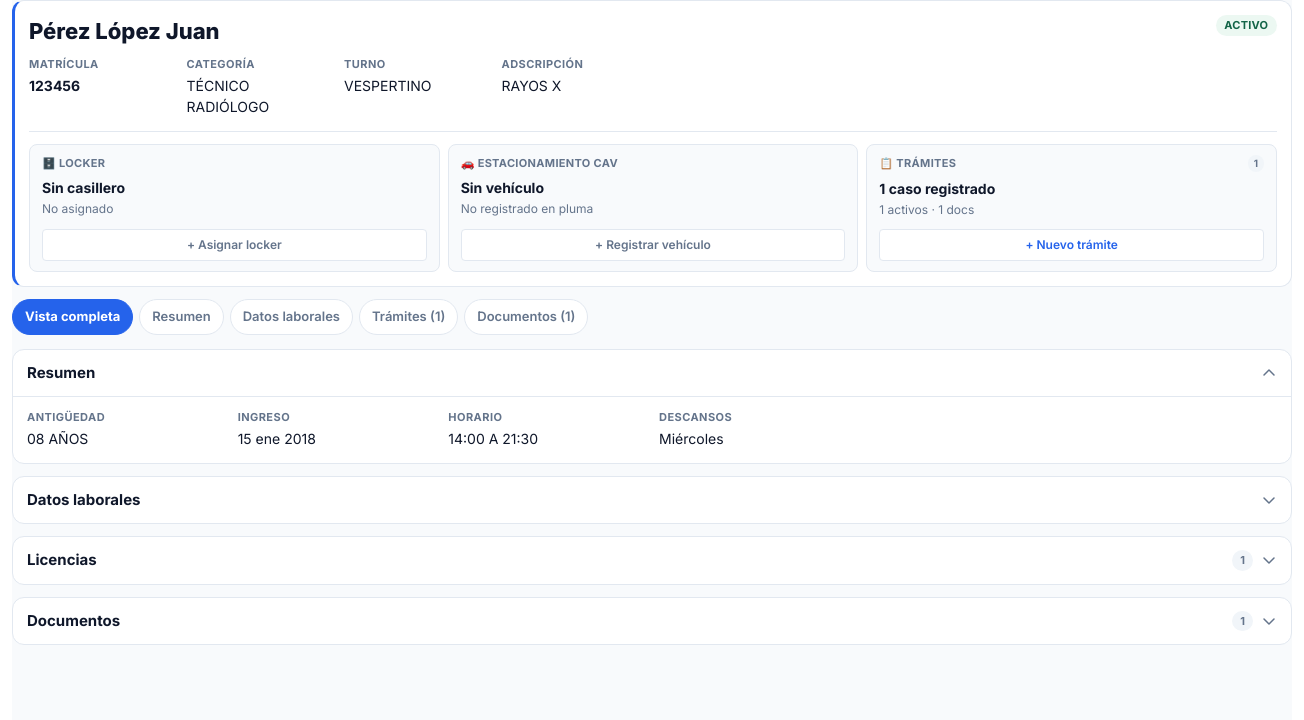
Test: Expediente del trabajador · secciones progresivas › documentos se muestran solo cuando existen y sin rutas de storage
Click the button "Documentos 1".
click(74, 620)  # box [13,598,1291,644]
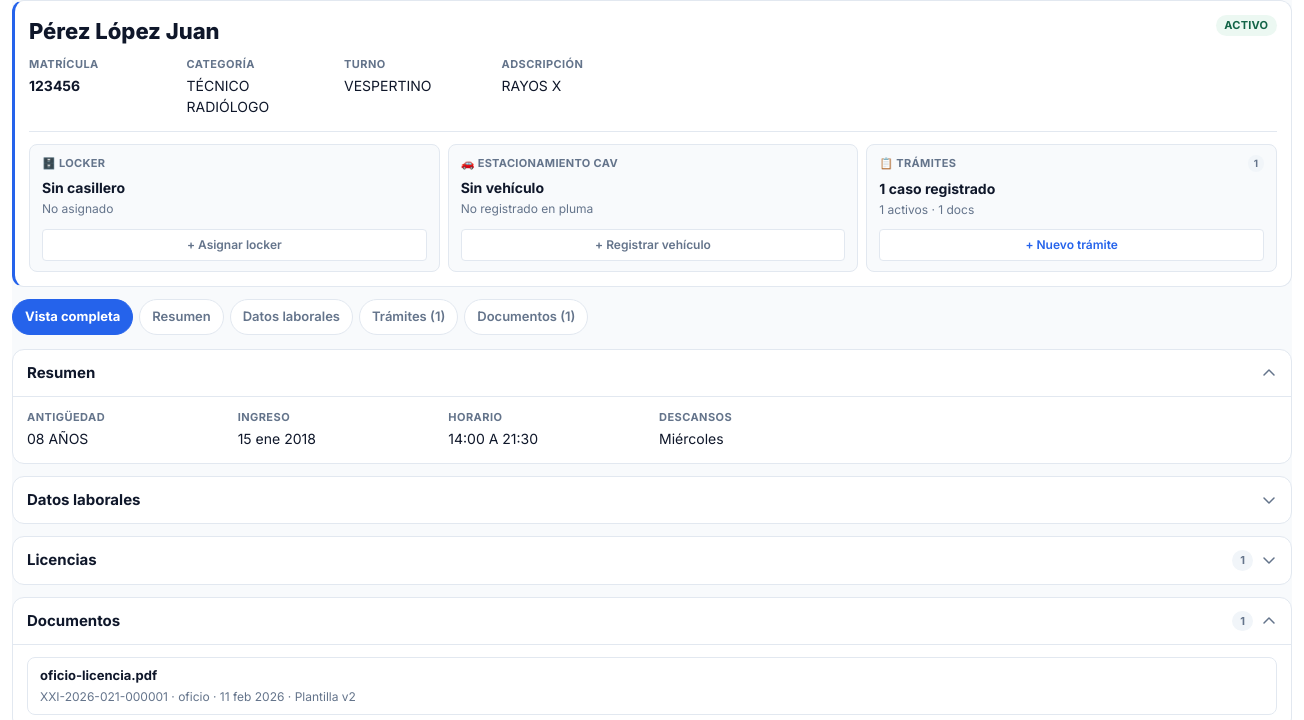
Expected: the text "oficio-licencia.pdf" is shown, [40,667,157,683]
